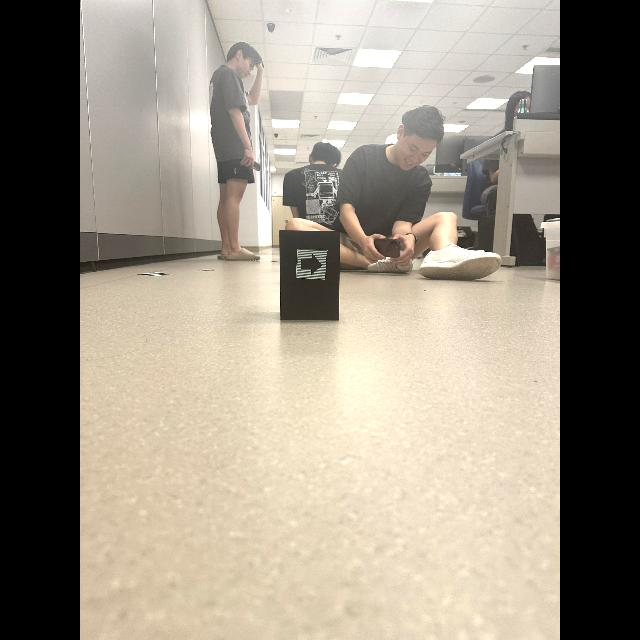RIGHT: (301, 254, 322, 275)
